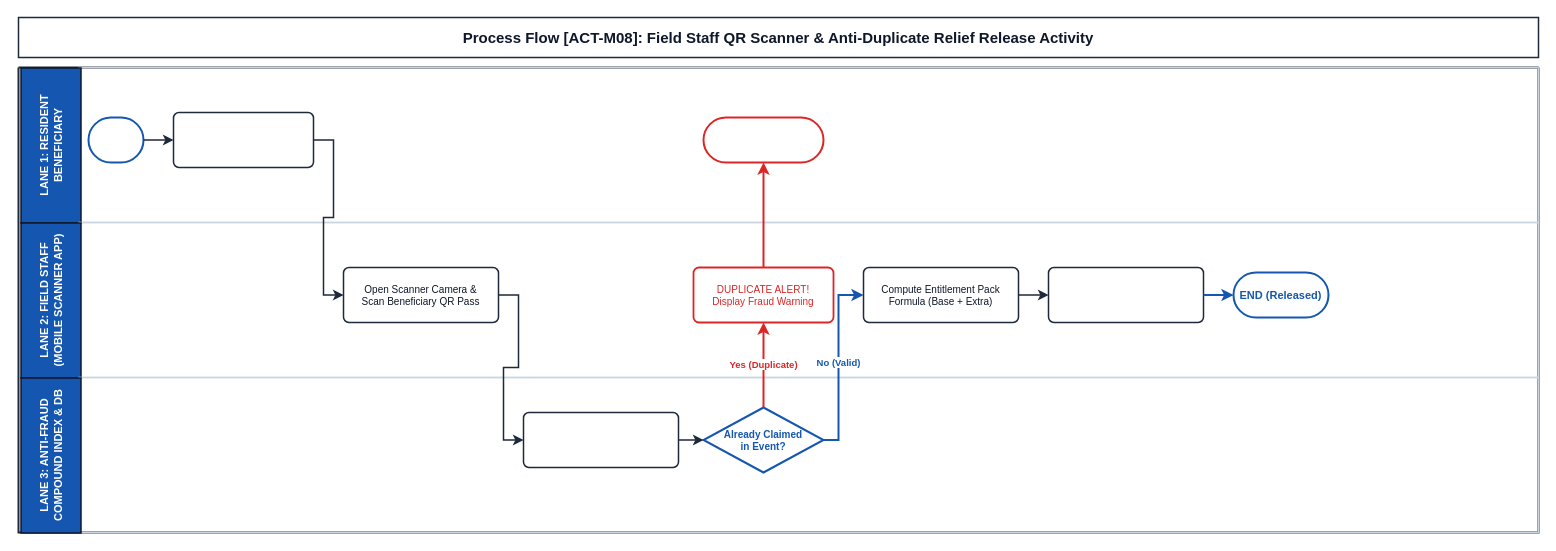
Image size: 1556x551. Some labels were removed from this diagram. The box of each missing label's shape, as (x1, y1, x2, y2) in pixels:
Check Compound Index (qrCode + eventId): (522, 411, 679, 468)
END (Fraud Logged): (702, 116, 824, 163)
Presents Digital or Printed QR Relief Pass: (172, 111, 314, 168)
Staff Confirms Release & Deducts Warehouse Stock: (1047, 266, 1204, 323)
START: (87, 116, 144, 163)
